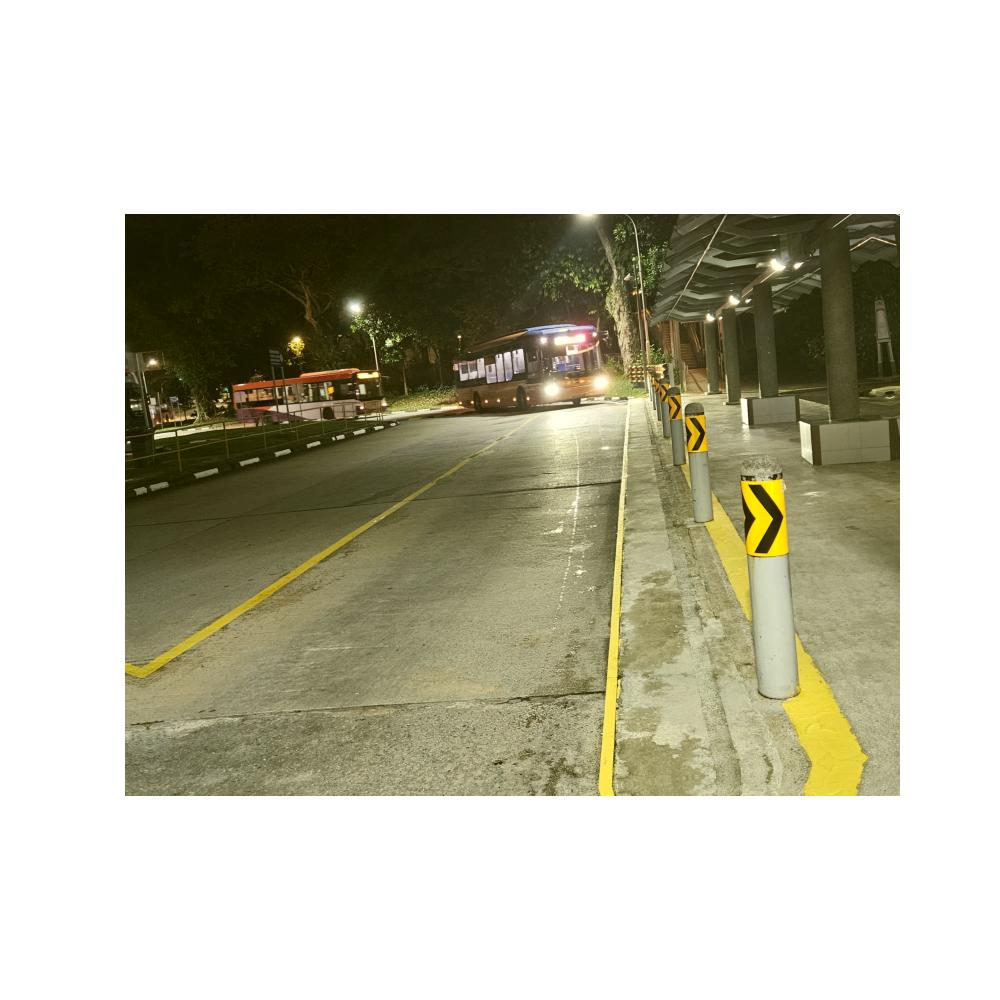bus: (448, 323, 607, 412), (228, 366, 393, 420)
